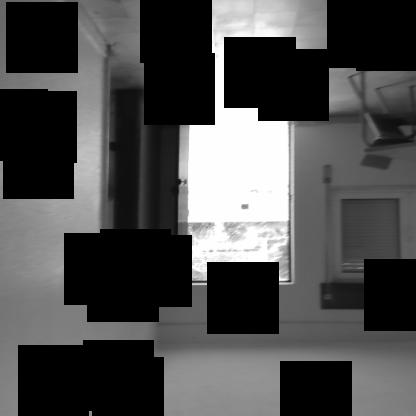Porte: (172, 97, 292, 294)
